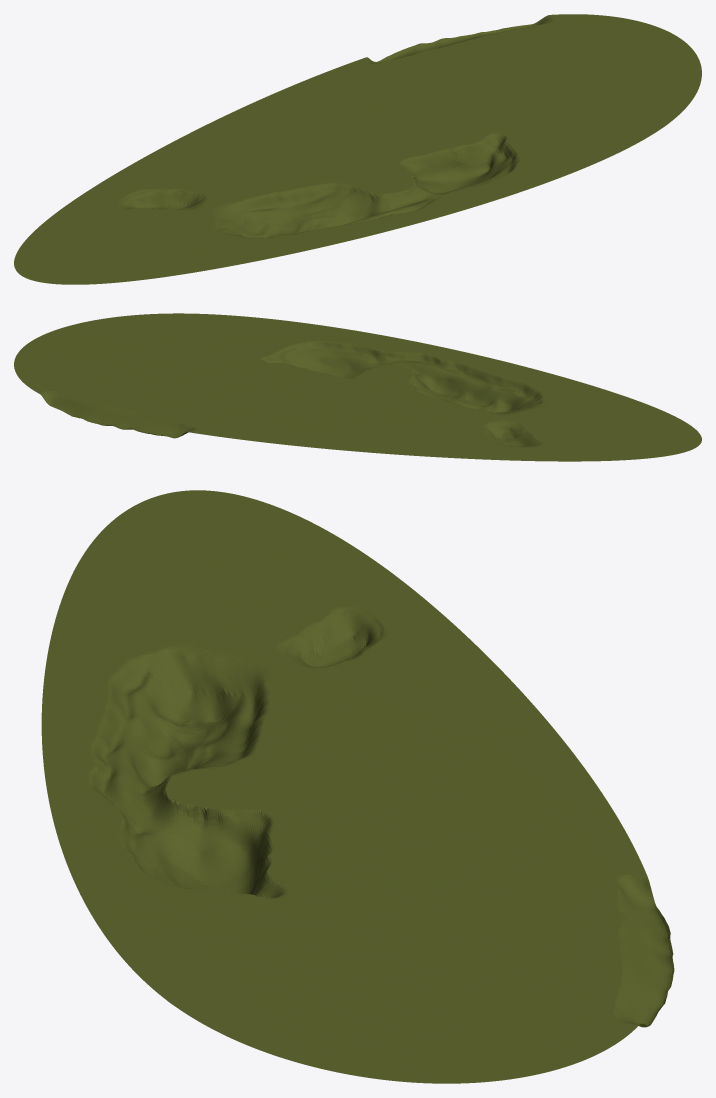
The model's file is campus_area_resized.glb.
3 views of the same model, one above another, from view 1: azimuth 30°, elevation 25°; view 2: azimuth 150°, elevation 25°; view 3: azimuth 270°, elevation 25° (orthographic). The views are drawn at different scales.
Visible parts, largest first — view 1: Plane.001; view 2: Plane.001; view 3: Plane.001.
Boxes of the visible parts, x1,y1,x2,y2 form: Plane.001: [14, 14, 701, 284]; Plane.001: [14, 313, 701, 461]; Plane.001: [41, 490, 674, 1083].
Size of the model in its own units: 1448 by 47.17 by 652.
Materials: 1 (1 with a texture image).
